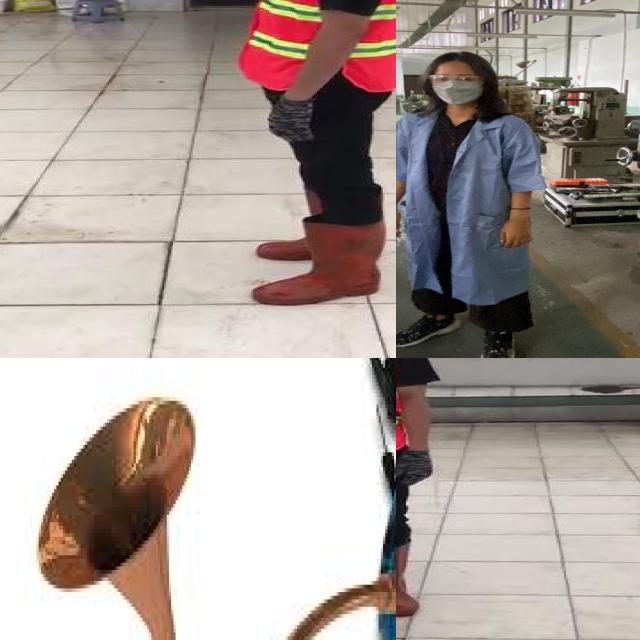boots: (257, 222, 388, 307), (396, 543, 425, 617)
face_mask: (424, 71, 489, 106)
glasses: (423, 73, 490, 89)
hand_glove: (267, 94, 321, 143), (396, 453, 436, 487)
hand_noglove: (490, 217, 536, 253), (396, 210, 410, 240)
head_nohelmet: (425, 48, 496, 72)
person: (215, 0, 396, 307), (396, 48, 557, 358)
shoes: (396, 310, 470, 351), (466, 316, 526, 358)
vest: (244, 0, 396, 90)
